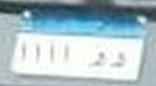1: (31, 43, 43, 66), (45, 42, 56, 67), (60, 43, 72, 65), (19, 41, 29, 65)
haa: (86, 50, 107, 70), (110, 52, 127, 71)
